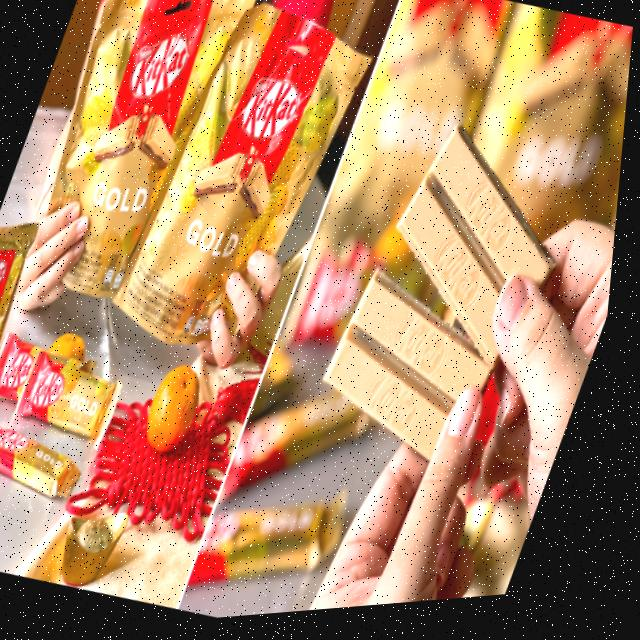kitkat: (16, 349, 134, 455), (0, 332, 113, 425), (0, 416, 100, 518), (0, 216, 52, 397), (0, 380, 6, 512)
